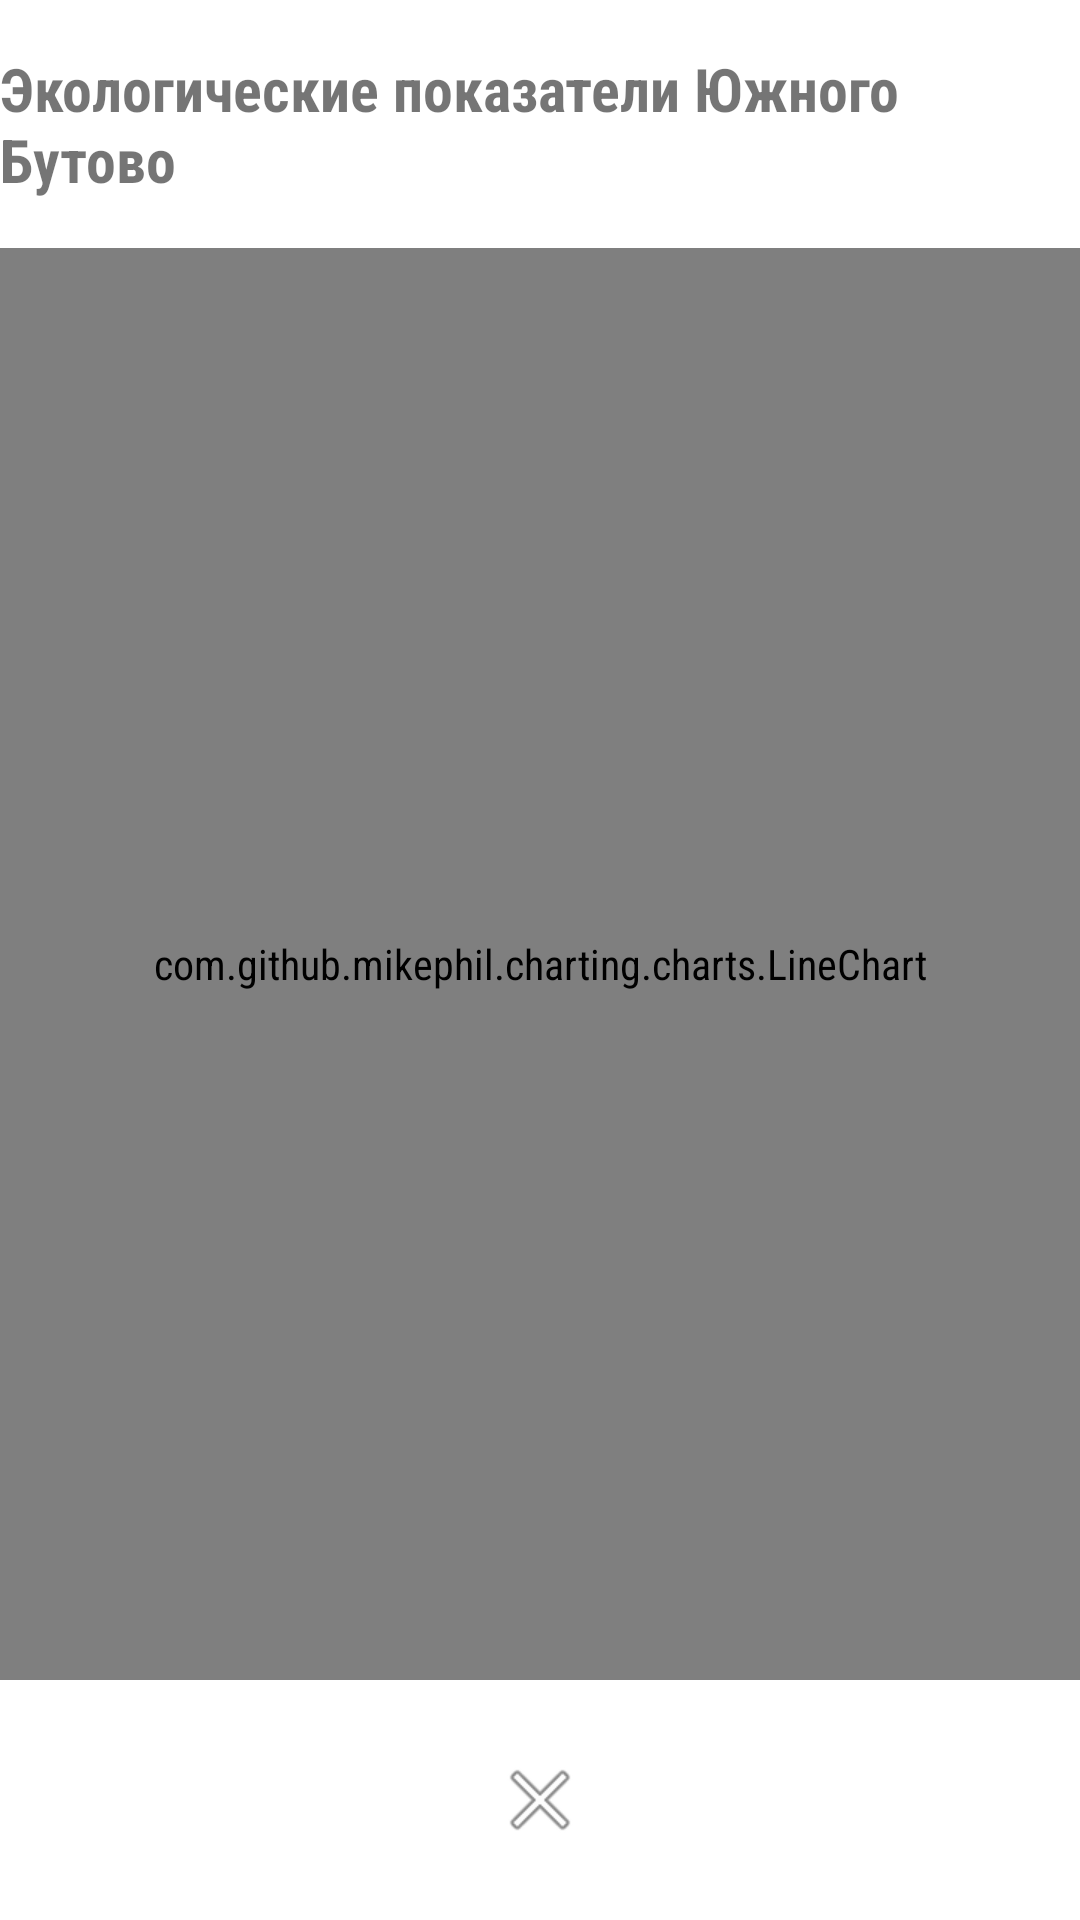

Icons on this 1080 × 1920 Android screen, each with its box as (x1,y1,x2,y2):
close clear cancel: (510,1770,570,1830)
